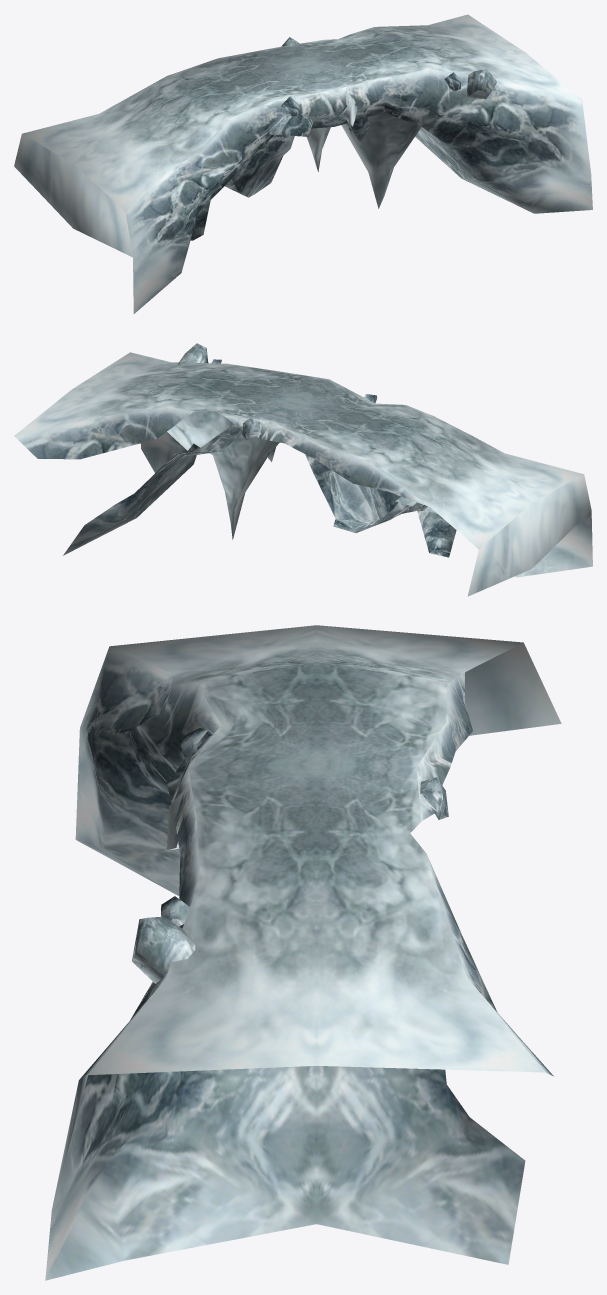
Rendered from yw_piaomiaofeng_xueqiao.FBX.
3 views of the same model, one above another, from view 1: azimuth 30°, elevation 25°; view 2: azimuth 150°, elevation 25°; view 3: azimuth 270°, elevation 25° (orthographic). The views are drawn at different scales.
Visible parts, largest first — view 1: yw_piaomiaofeng_xueqiao; view 2: yw_piaomiaofeng_xueqiao; view 3: yw_piaomiaofeng_xueqiao.
Part boxes in pixels (<box>): yw_piaomiaofeng_xueqiao: <box>14,14,592,313</box>; yw_piaomiaofeng_xueqiao: <box>14,343,592,596</box>; yw_piaomiaofeng_xueqiao: <box>45,625,561,1280</box>.
Bounding box in the file's own units: 2593 × 889 × 1281.
